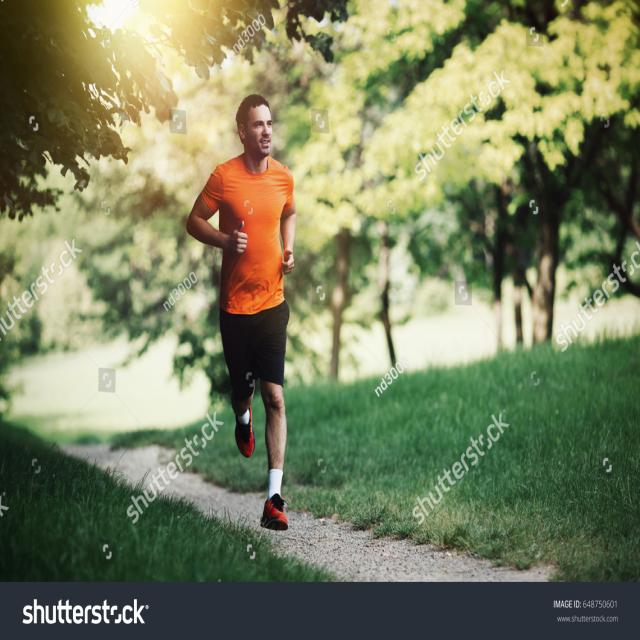running: (184, 91, 298, 532)
